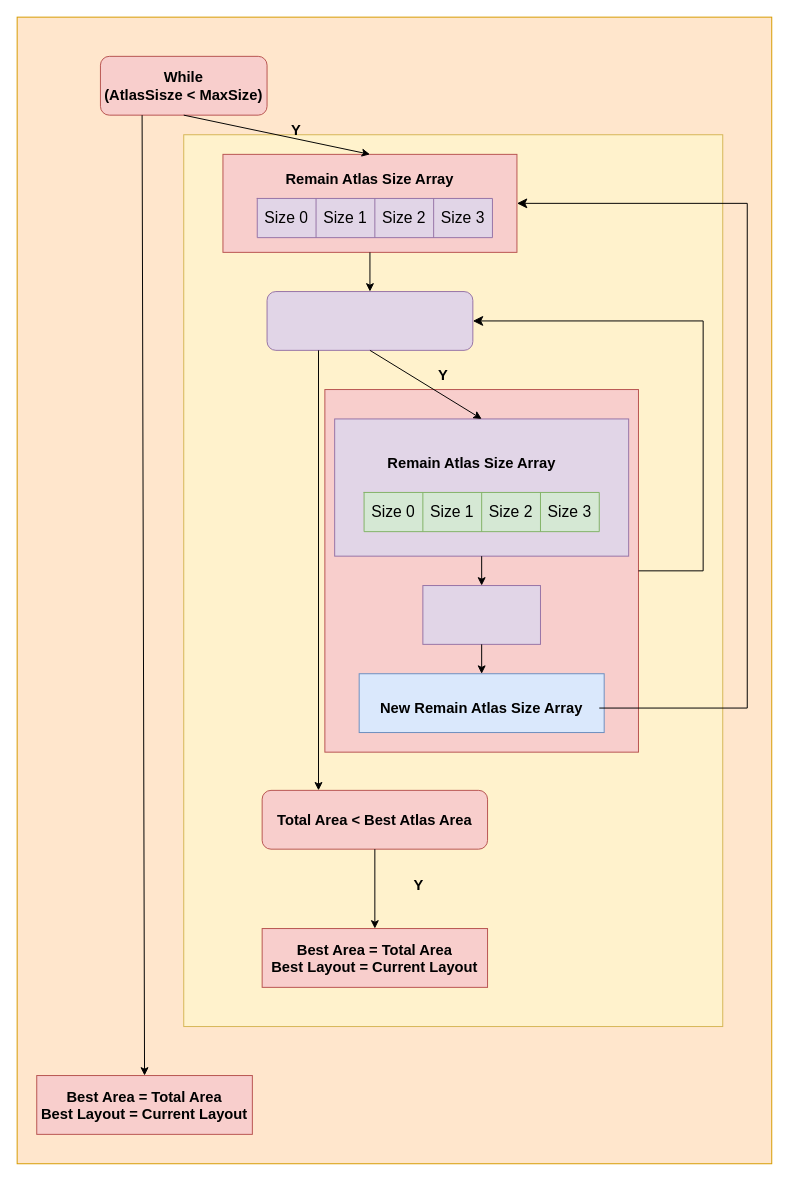
Some shapes in this 789 by 1181 pixel diagram are drawn without their labels. The centre of each missing label's shape, as x and y in pixels:
Packing: [481,614]
While (Remain Atlas Num > 0): [369,320]
